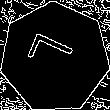L_SE: (26, 33, 83, 82)
